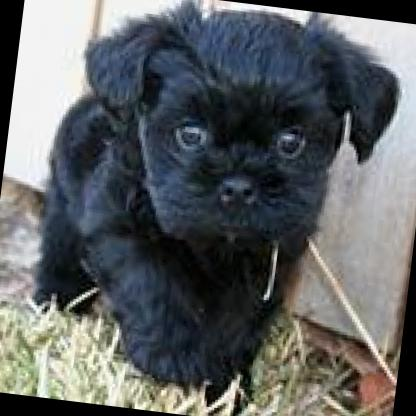affenpinscher: (10, 0, 410, 416)
